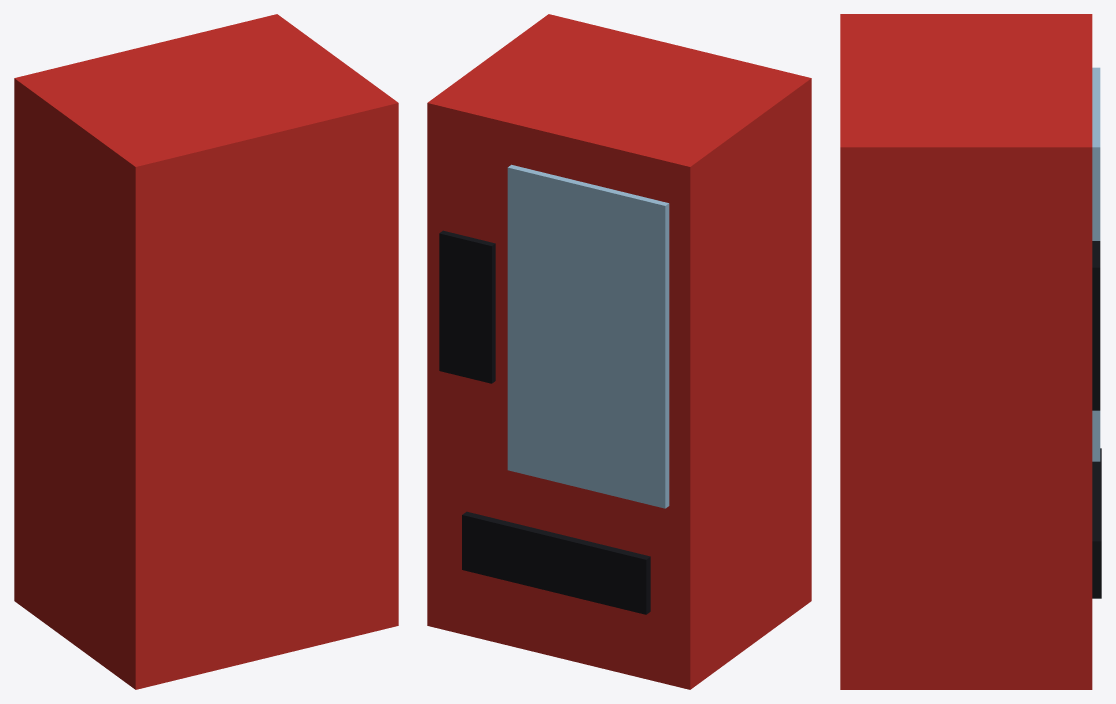
File: prop_vending.glb
The picture shows the model from 3 angles, left to right: view 1: azimuth 30°, elevation 25°; view 2: azimuth 150°, elevation 25°; view 3: azimuth 270°, elevation 25°; orthographic projection. The views are drawn at different scales.
Parts seen in each view (by area): view 1: prop_vending__mesh; view 2: prop_vending__mesh; view 3: prop_vending__mesh.
Boxes of the visible parts, <box> form: prop_vending__mesh: <box>14,14,398,689</box>; prop_vending__mesh: <box>427,14,811,689</box>; prop_vending__mesh: <box>840,14,1101,689</box>.
Bounding box in the file's own units: 1 × 1.9 × 0.83.
